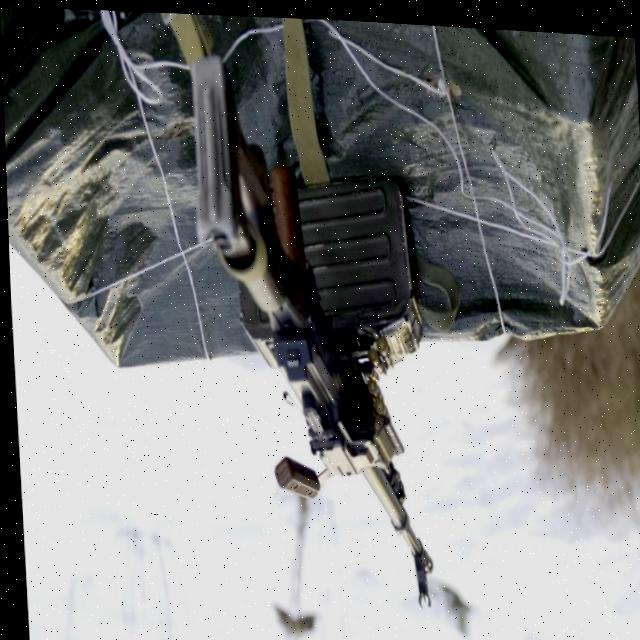firearm: (186, 56, 433, 609)
